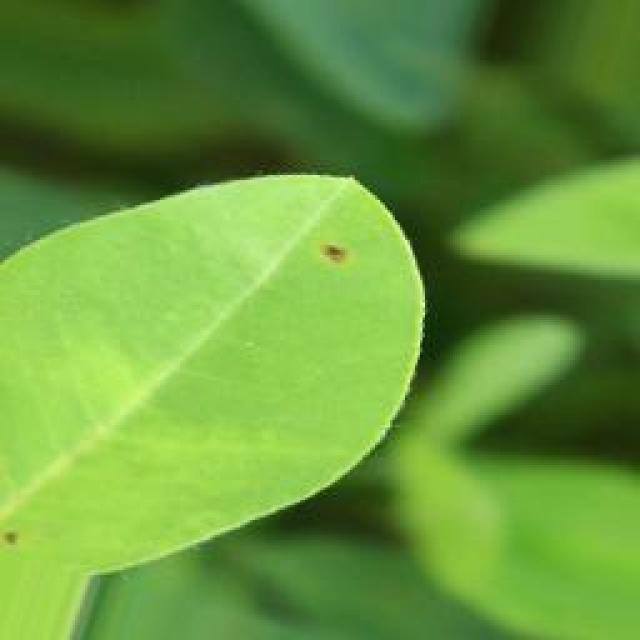Sigatoka: (300, 213, 374, 294)
